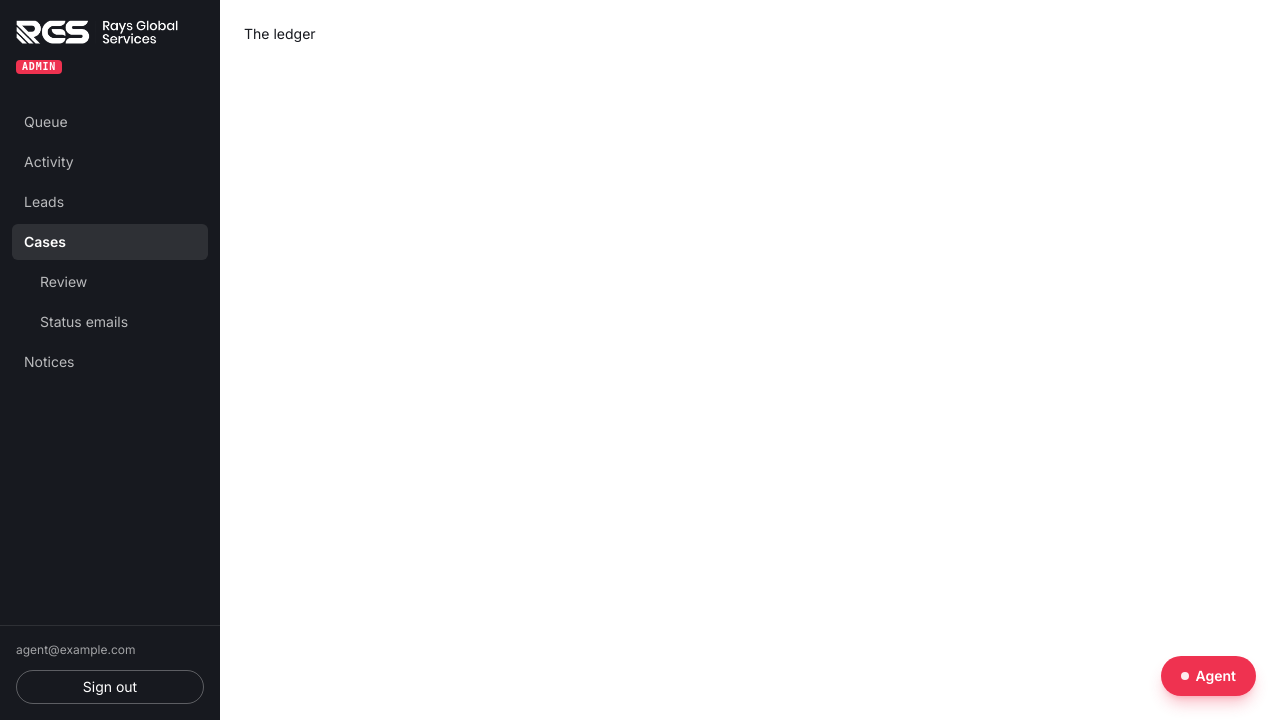
Test case: CrmLayout's agent column › collapses the column again and keeps the toggle reachable
Click the button with aria-label "show the agent panel": (1209, 676) [1162,656,1256,696]
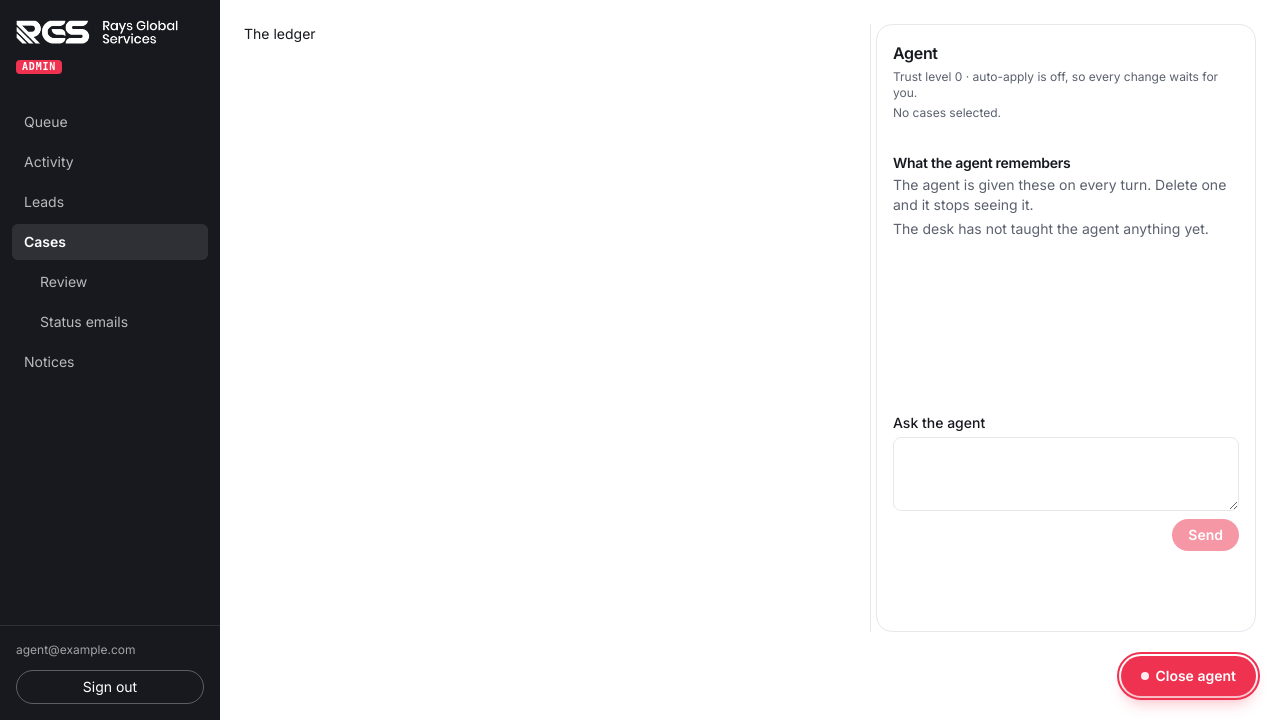
Expected: the text box labelled "Ask the agent" is shown, [893,437,1239,511]
Click the button with aria-label "hide the agent panel": (1189, 676) [1121,656,1256,696]
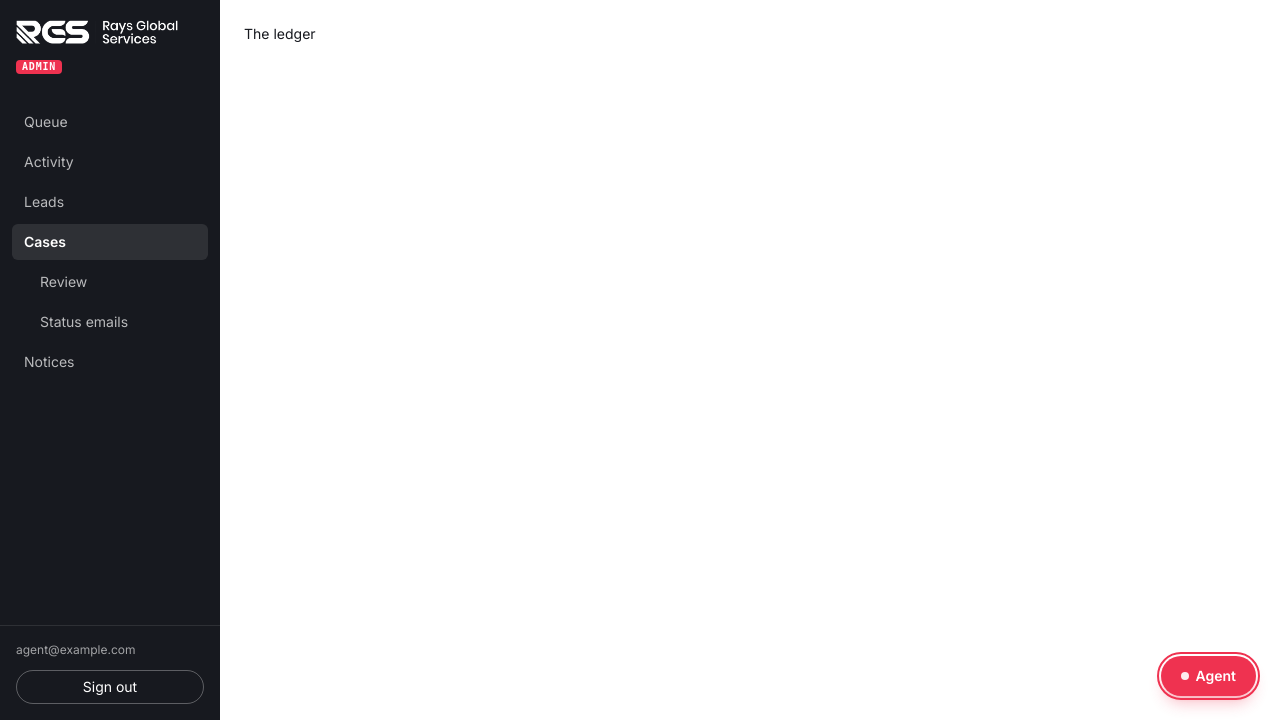
Expected: the label labelled "Ask the agent" is gone
Expected: the button with aria-label "show the agent panel" is shown, [1162,656,1256,696]
